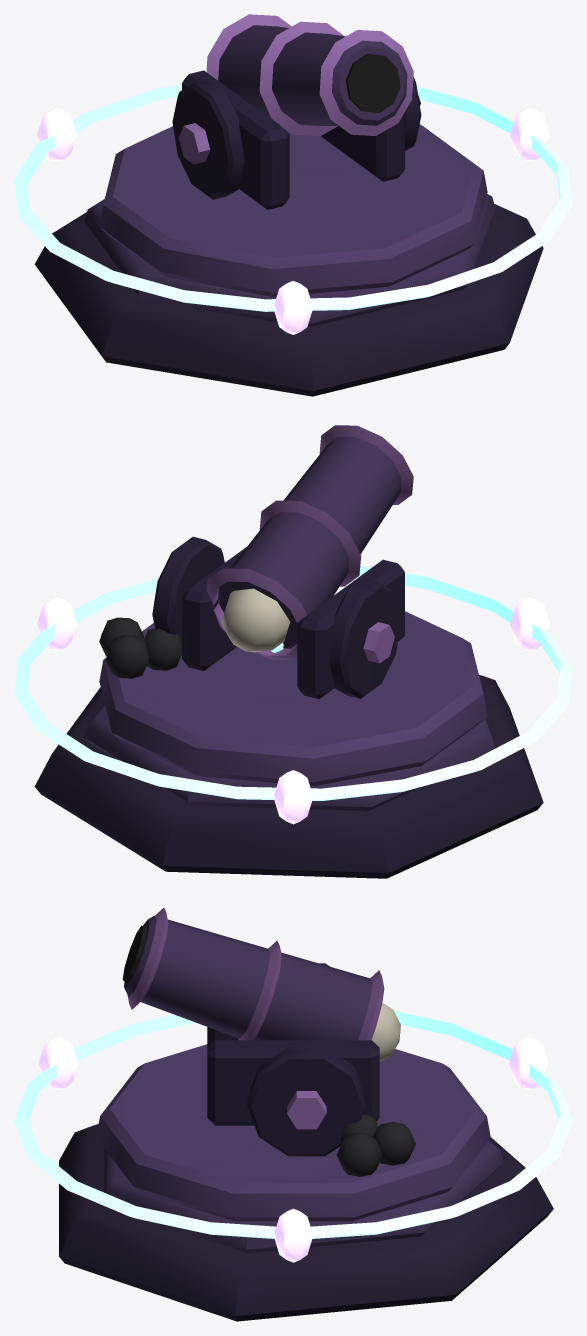
The model's file is ombres_3.glb.
The picture shows the model from 3 angles, top to bottom: view 1: azimuth 30°, elevation 25°; view 2: azimuth 150°, elevation 25°; view 3: azimuth 270°, elevation 25°; orthographic projection.
Parts seen in each view (by area): view 1: ombres_3_peint, Fut_peint, Tourelle_peint, Rune, AnneauFlottant_lueur; view 2: ombres_3_peint, Fut_peint, Tourelle_peint, Rune, AnneauFlottant_lueur; view 3: ombres_3_peint, Fut_peint, Tourelle_peint, Rune, AnneauFlottant_lueur.
Part boxes in pixels (x1=…): ombres_3_peint: x1=34, y1=124, x2=543, y2=396; Fut_peint: x1=206, y1=14, x2=413, y2=136; Tourelle_peint: x1=172, y1=70, x2=421, y2=209; Rune: x1=14, y1=84, x2=572, y2=311; AnneauFlottant_lueur: x1=37, y1=107, x2=549, y2=334; ombres_3_peint: x1=34, y1=611, x2=543, y2=878; Fut_peint: x1=206, y1=425, x2=413, y2=659; Tourelle_peint: x1=99, y1=536, x2=404, y2=699; Rune: x1=14, y1=566, x2=572, y2=800; AnneauFlottant_lueur: x1=37, y1=597, x2=549, y2=824; ombres_3_peint: x1=59, y1=1044, x2=553, y2=1321; Fut_peint: x1=122, y1=908, x2=400, y2=1061; Tourelle_peint: x1=207, y1=963, x2=415, y2=1176; Rune: x1=14, y1=1011, x2=572, y2=1238; AnneauFlottant_lueur: x1=38, y1=1036, x2=548, y2=1262.
Bounding box in the file's own units: 0.858 × 0.5069 × 0.844.
